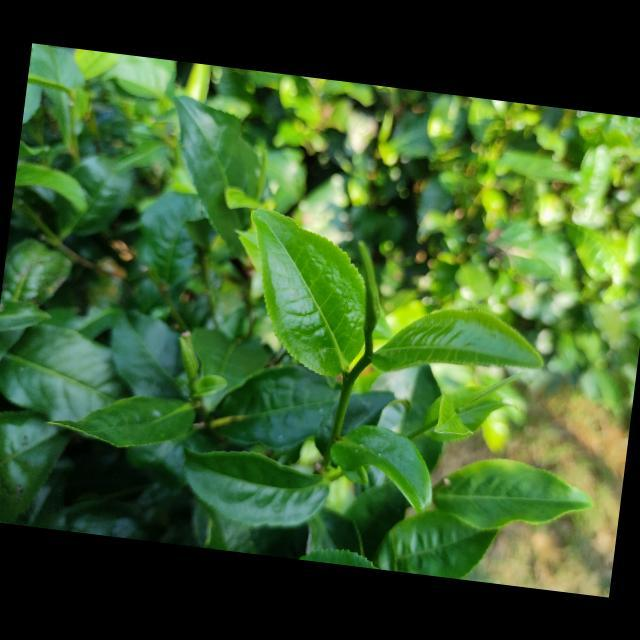Stem: (345, 374, 353, 386)
